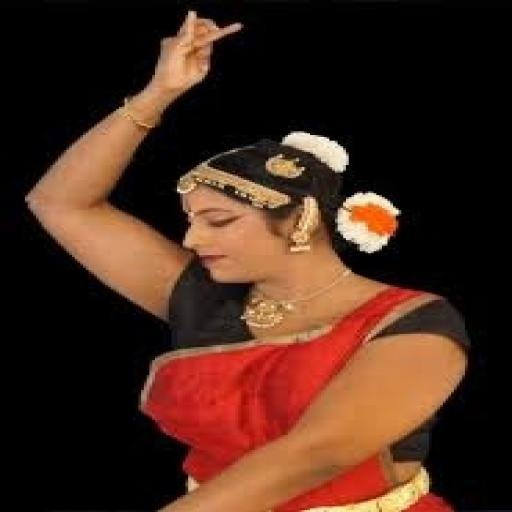dancing: (22, 8, 487, 510)
